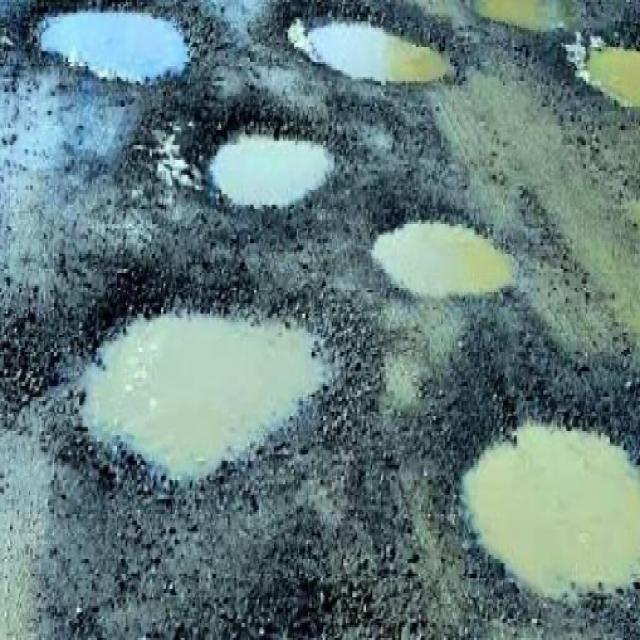pothole: (62, 267, 355, 508), (443, 393, 639, 609), (15, 2, 220, 90), (267, 2, 466, 88), (367, 198, 526, 305), (194, 107, 344, 218), (566, 32, 639, 115), (467, 2, 570, 34)
